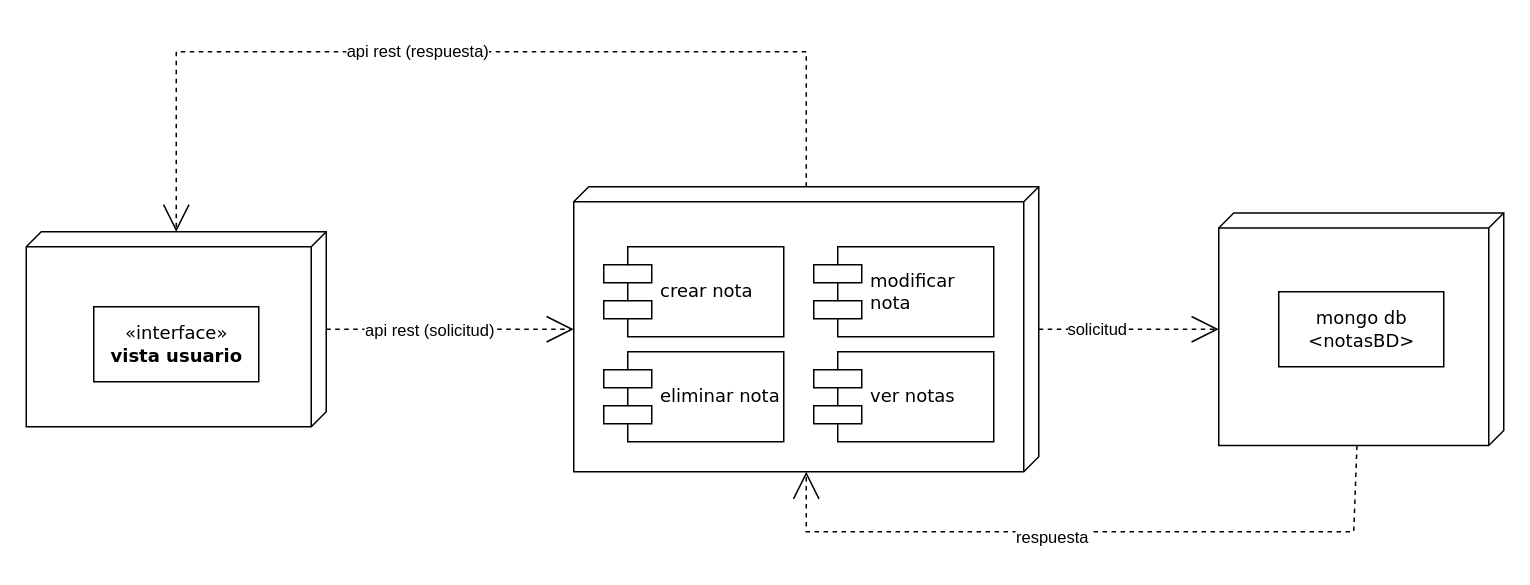
Image size: 1530x585. Some labels were removed from this diagram. The shapes that lost their labels are listed below. From the top down, each one's box as (x1, y1, x2, y2) in pixels, then its label:
(25, 230, 326, 427): Frontend
(572, 185, 1039, 472): Backend
(1217, 212, 1504, 446): BD
